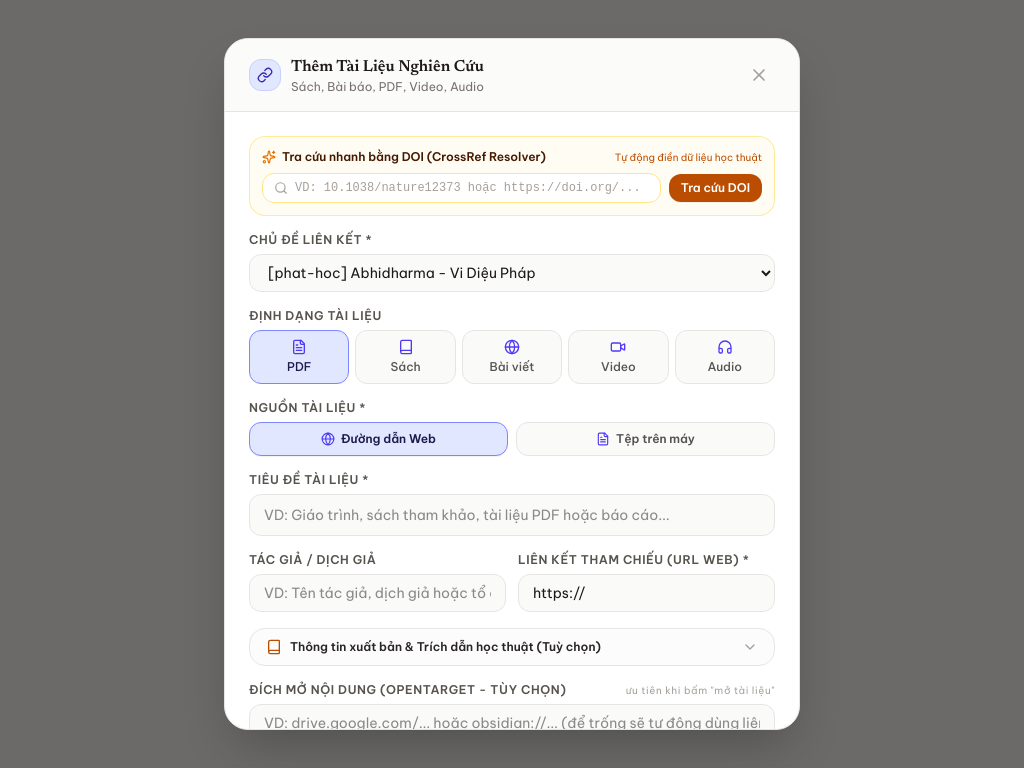
it: ADR-011: ResourceFormModal UI Interaction & Source Mode Contract Tests › 2. Selecting Local File mode displays filePath input field
Click the button "Tệp trên máy": {"x": 646, "y": 439} [516,422,775,456]
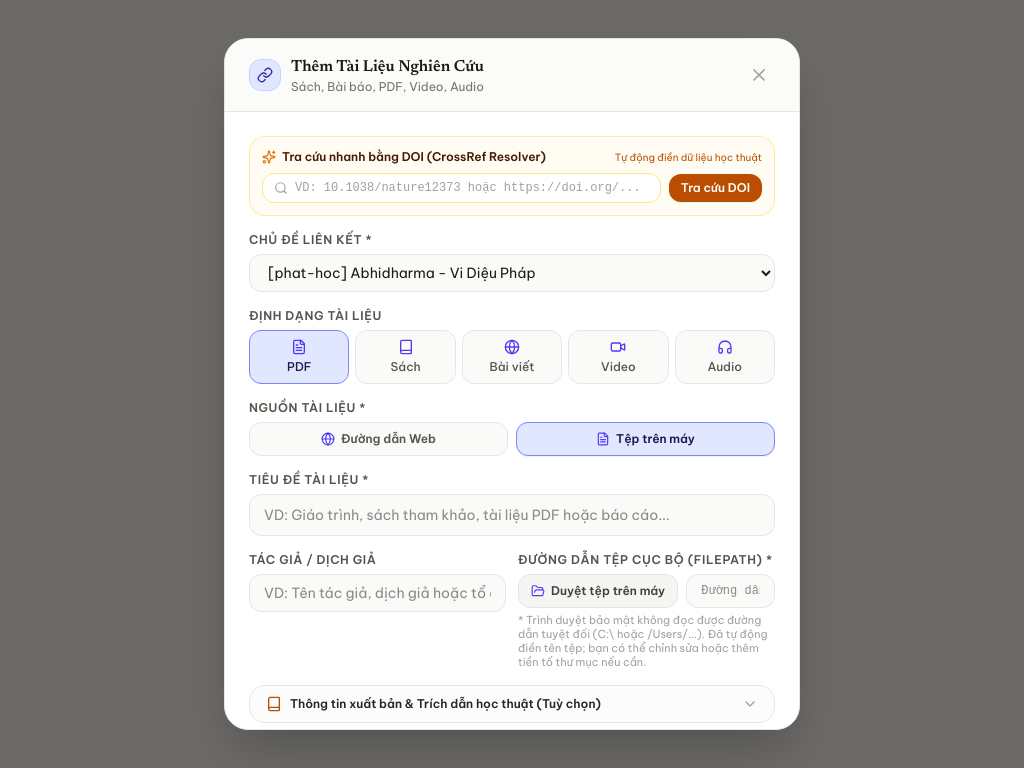
Expected: the field with placeholder "Đường dẫn tệp (/Users/.../KinhDien.pdf hoặc D:\\...)..." is shown, [686,574,775,608]
